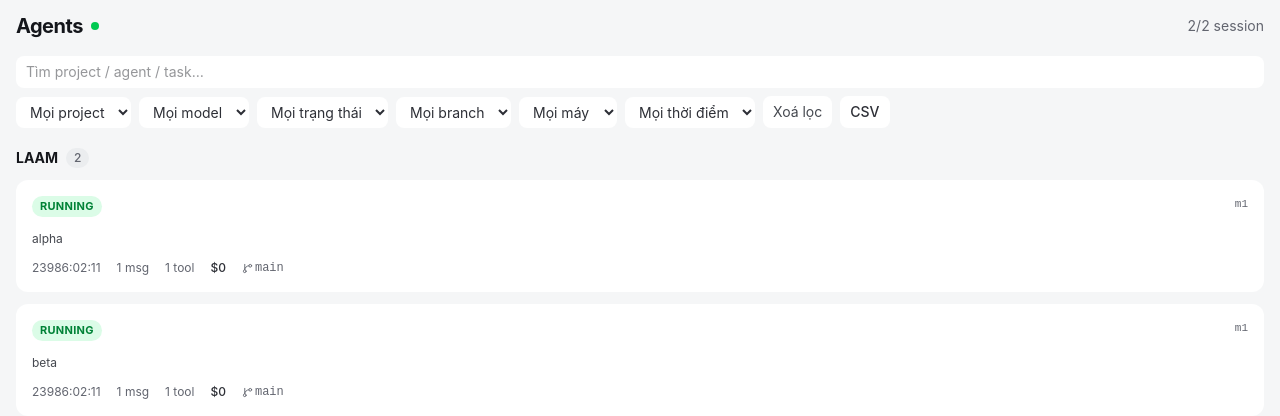
Test case: machine dropdown lists /api/machines and narrows cards to that machine's sessions
Select "An's box" in the dropdown named "machine-filter" at (568,112), box [519,96,617,128]
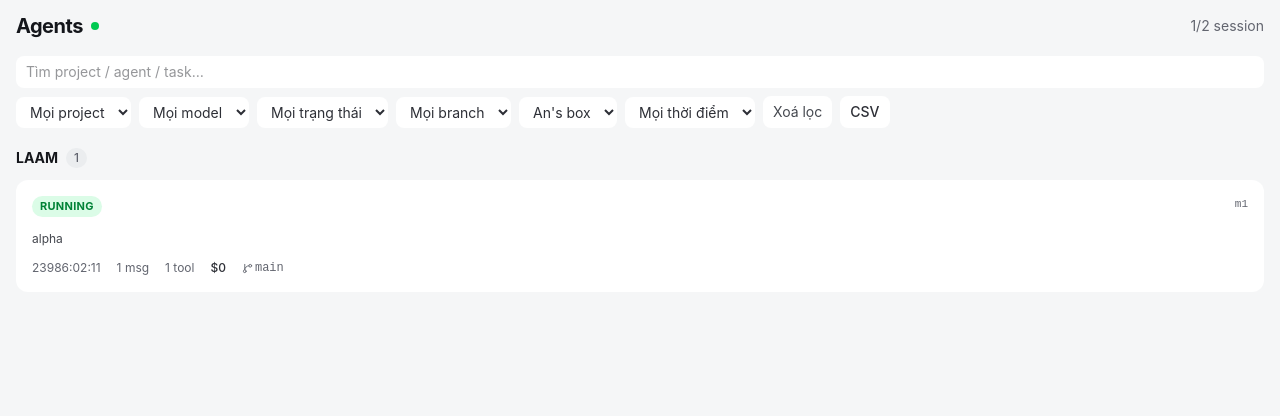
Expected: the text "alpha" is shown, [32,230,63,246]
Now the button "beta" is gone
Now the text "1/2 session" is shown, box [1190,16,1264,36]
